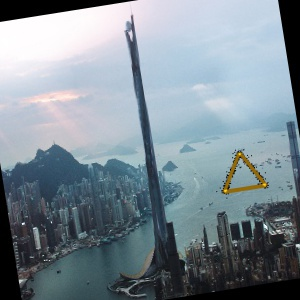triangle: (220, 149, 271, 196)
